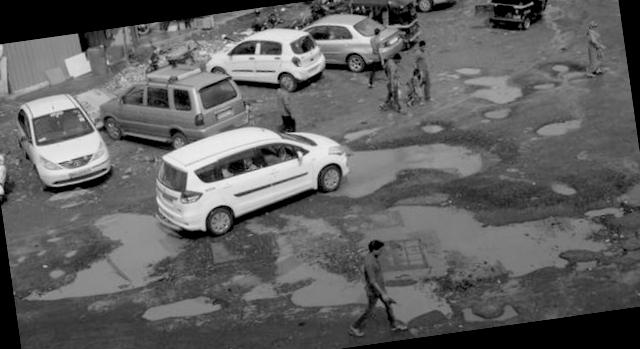Pothole: (352, 161, 634, 308), (242, 190, 448, 349), (308, 101, 504, 211), (24, 196, 197, 308), (452, 55, 526, 128), (134, 279, 229, 330), (530, 59, 598, 99), (530, 110, 594, 144), (610, 169, 640, 217), (414, 111, 452, 139)
